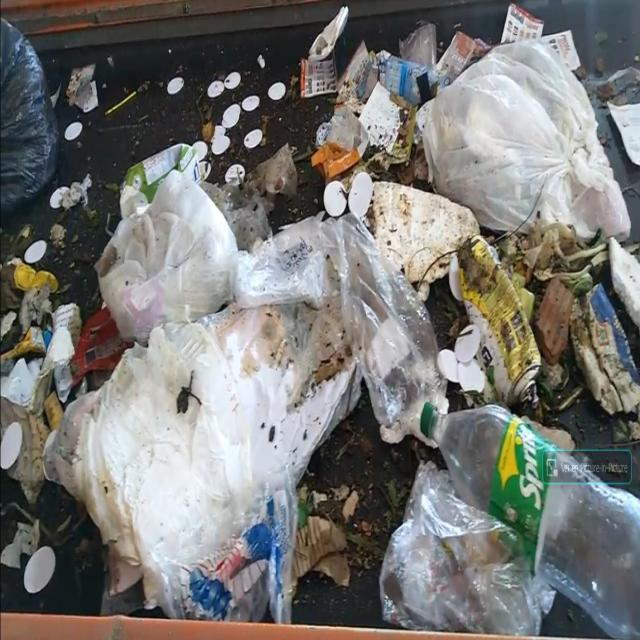bottle: (415, 390, 636, 640), (116, 143, 198, 213), (374, 44, 448, 116)
